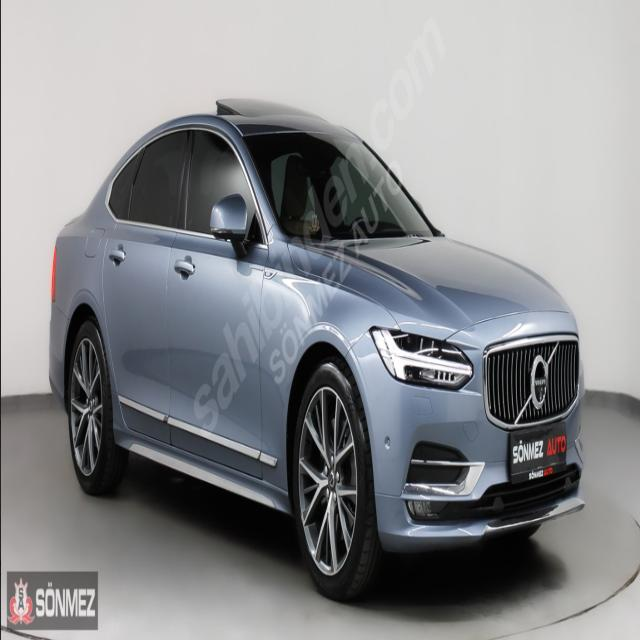volvo: (529, 350, 550, 411)
